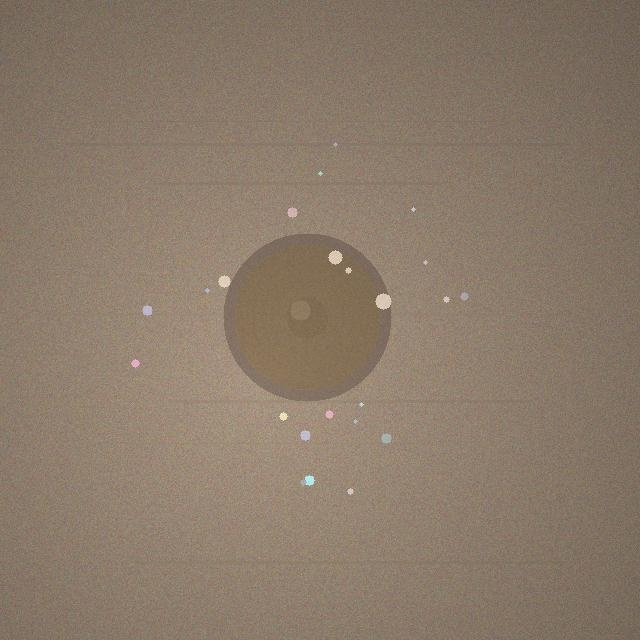overburn: (223, 233, 391, 401)
